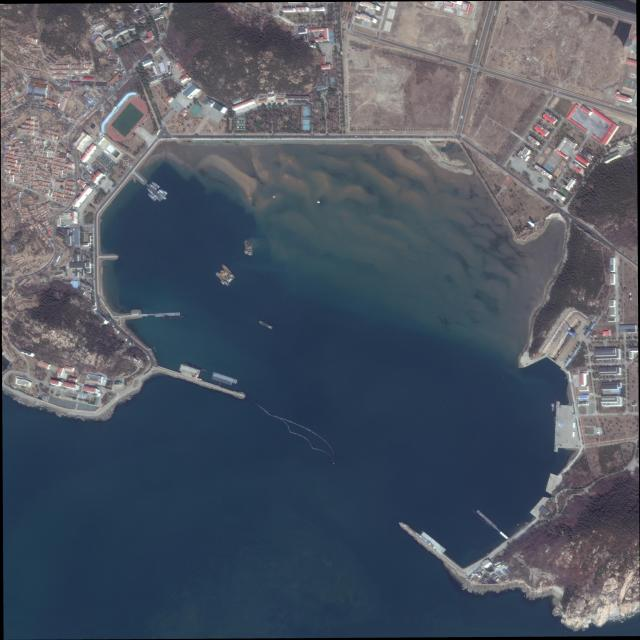ship: (471, 508, 491, 528), (182, 362, 207, 372), (146, 187, 161, 202), (221, 264, 236, 279), (215, 272, 230, 287), (219, 268, 233, 283), (258, 320, 273, 330), (161, 315, 185, 320), (553, 395, 557, 424), (156, 190, 166, 200), (148, 192, 157, 201), (151, 181, 160, 189), (149, 183, 157, 191), (244, 240, 248, 255), (159, 190, 166, 197), (248, 245, 252, 256), (160, 189, 167, 195), (551, 403, 554, 411)
